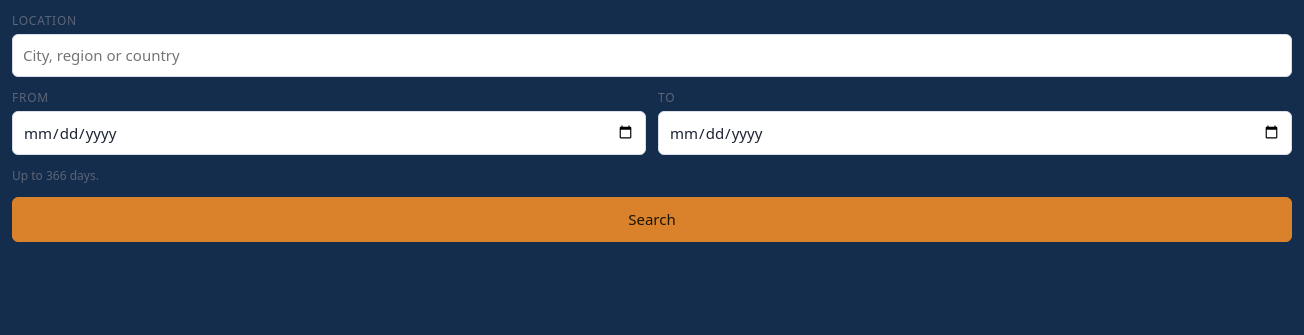
Test: SearchForm › never shows the server's internal error text
In the field labelled "Location": (652, 55) x1=12 y1=34 x2=1292 y2=76, type "Santiago"
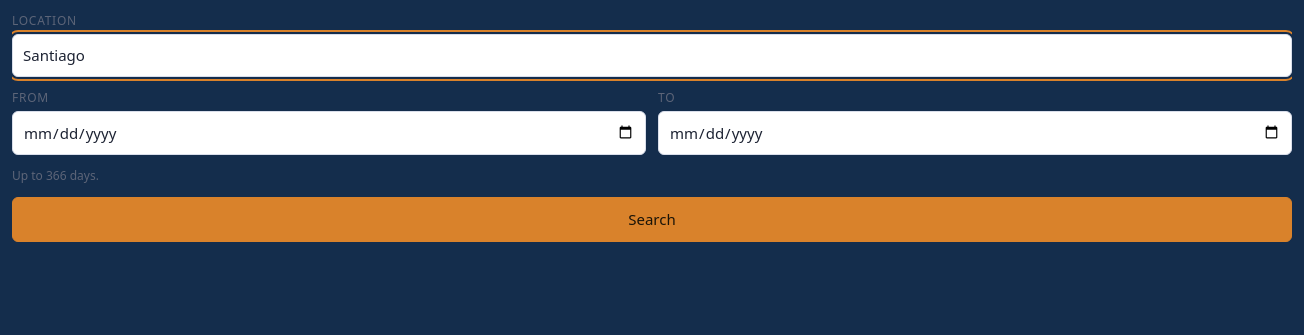
In the date field labelled "From": (329, 133) x1=12 y1=110 x2=646 y2=155, type "2026-06-21"
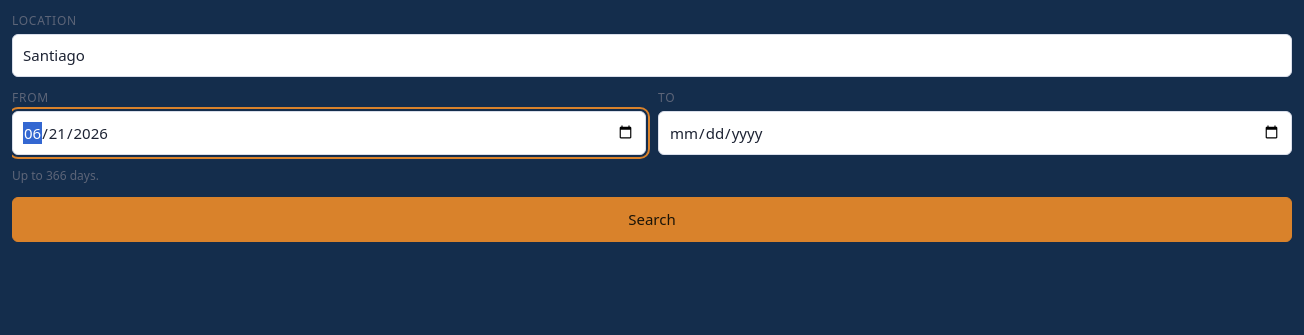
In the date field labelled "To": (975, 133) x1=658 y1=110 x2=1292 y2=155, type "2026-06-22"
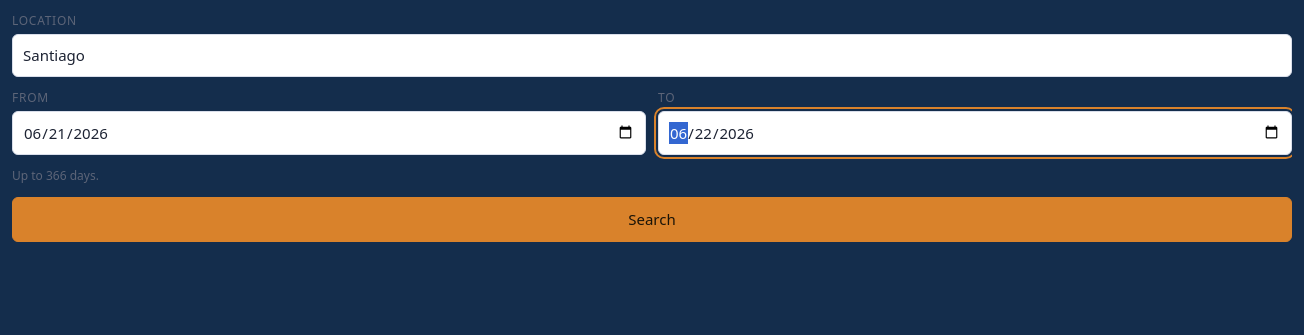
Click the button "Search": (652, 219) x1=12 y1=197 x2=1292 y2=242
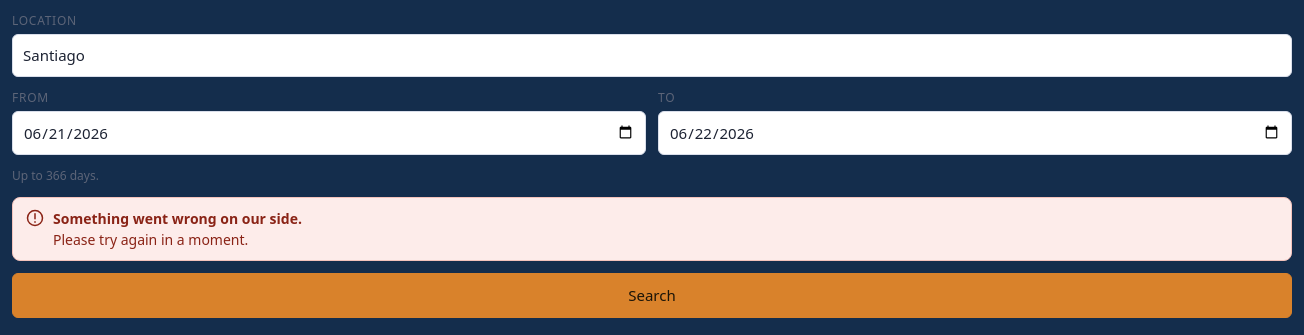
Expected: the message does not show "Internal server error", x1=12 y1=197 x2=1292 y2=261
Now the message shows "Something went wrong on our side.", box x1=53 y1=209 x2=302 y2=228
